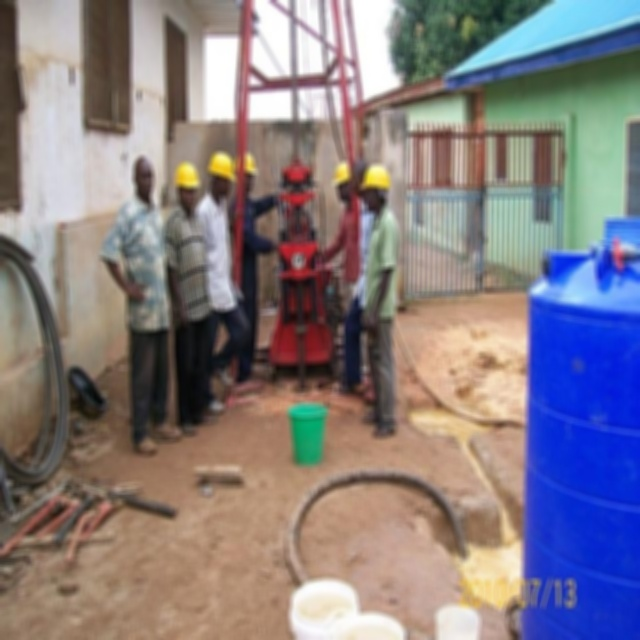Con_Casco: (209, 152, 235, 200), (362, 166, 389, 210), (176, 163, 200, 205)
Sin_Casco_Mascarrilla: (133, 155, 155, 201)
Sin_Chaleco: (120, 207, 166, 310), (171, 211, 209, 318)
